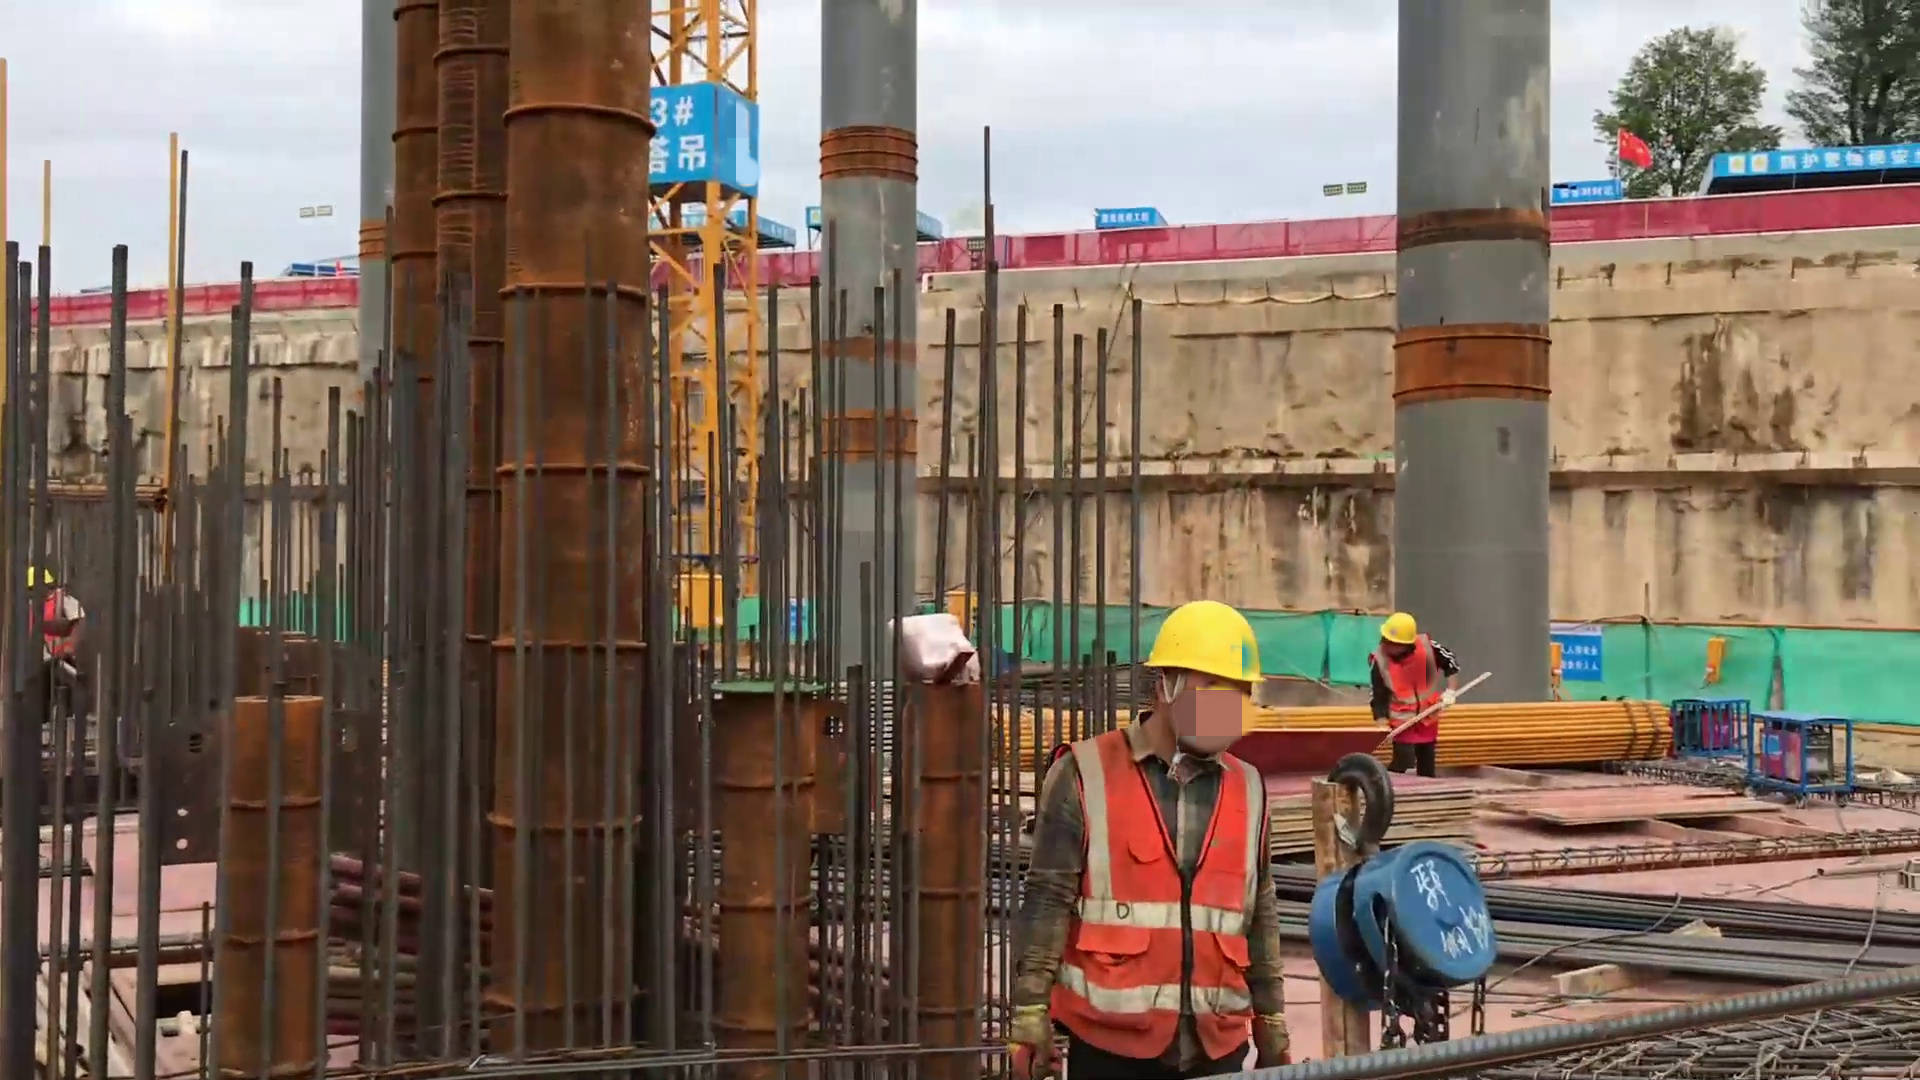board: (1264, 771, 1473, 853)
ebox: (678, 573, 724, 634)
helmet: (1140, 599, 1275, 694), (1373, 608, 1430, 650)
person: (1007, 600, 1297, 1080), (1367, 606, 1467, 775)
slogan: (1713, 144, 1907, 173), (1563, 625, 1602, 680)
vest: (1052, 733, 1264, 1066), (1375, 640, 1444, 742)
